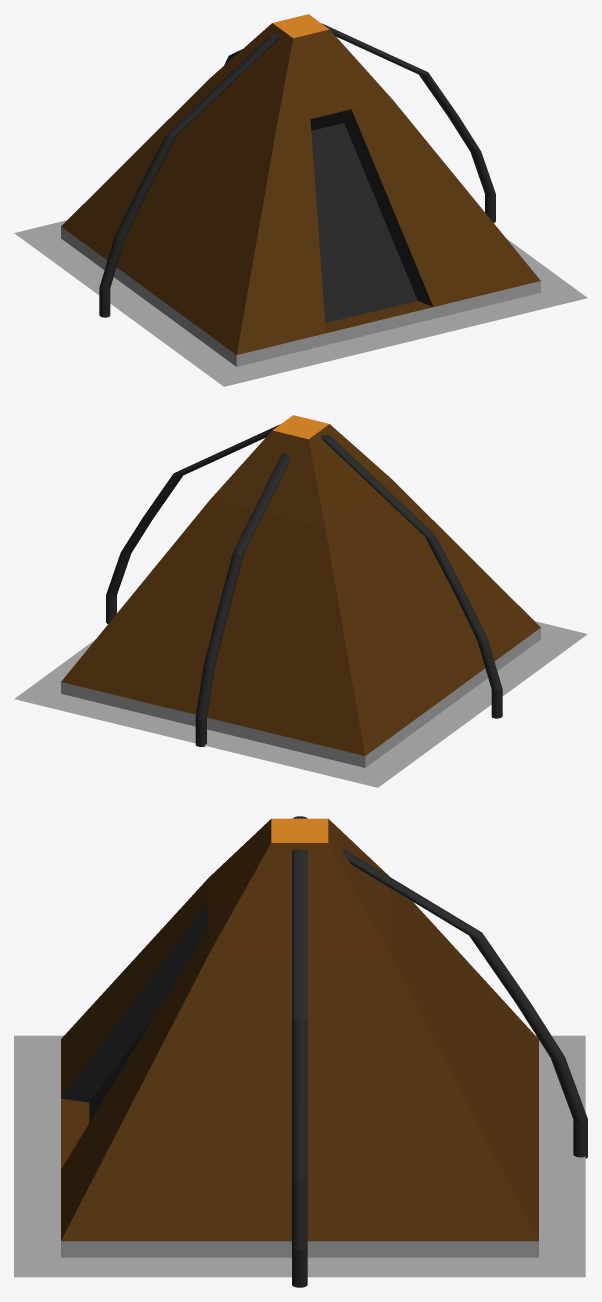
The model's file is tent.fbx.
The picture shows the model from 3 angles, top to bottom: view 1: azimuth 30°, elevation 25°; view 2: azimuth 150°, elevation 25°; view 3: azimuth 270°, elevation 25°; orthographic projection. The views are drawn at different scales.
Parts seen in each view (by area): view 1: Cylinder; view 2: Cylinder; view 3: Cylinder.
Boxes of the visible parts, <box> form: Cylinder: <box>14,14,587,386</box>; Cylinder: <box>14,415,587,787</box>; Cylinder: <box>14,816,587,1287</box>.
Size of the model in its own units: 266 by 155 by 246.
